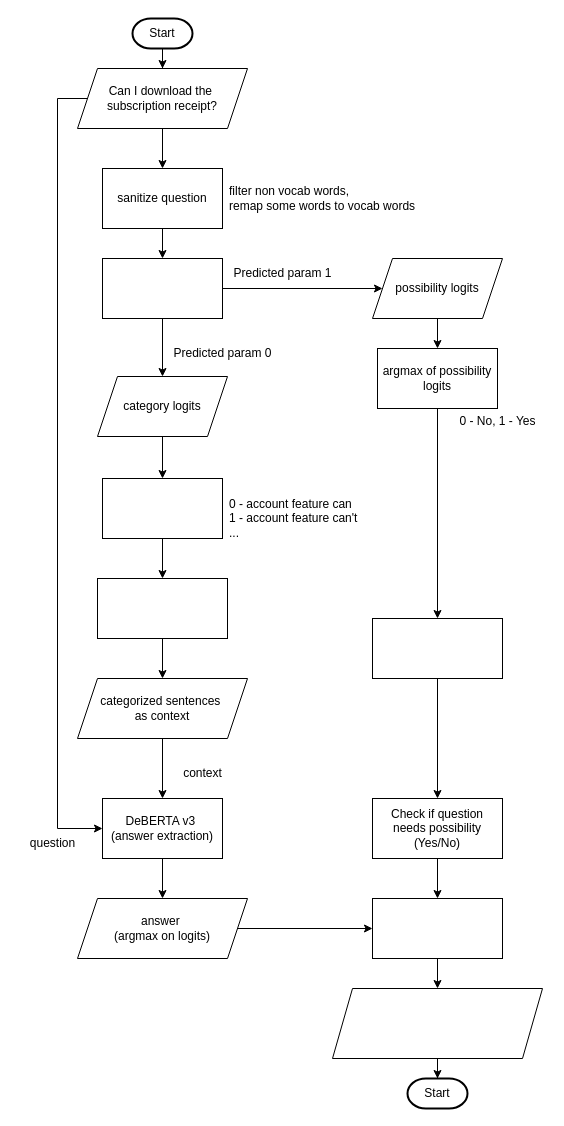
Image size: 564x1126. Some labels were removed from this diagram. Here are the shapes that lost their labels. From the top down, the centre of each, then its label:
pixel 162 288: Classifier Model
pixel 162 508: argmax of category logits
pixel 162 608: select train sentences of category predicted
pixel 437 648: possibility confidence scores via entropy
pixel 437 928: combined possibility + answer
pixel 437 1023: Yes, Subscription receipts are downloadable from the account section
